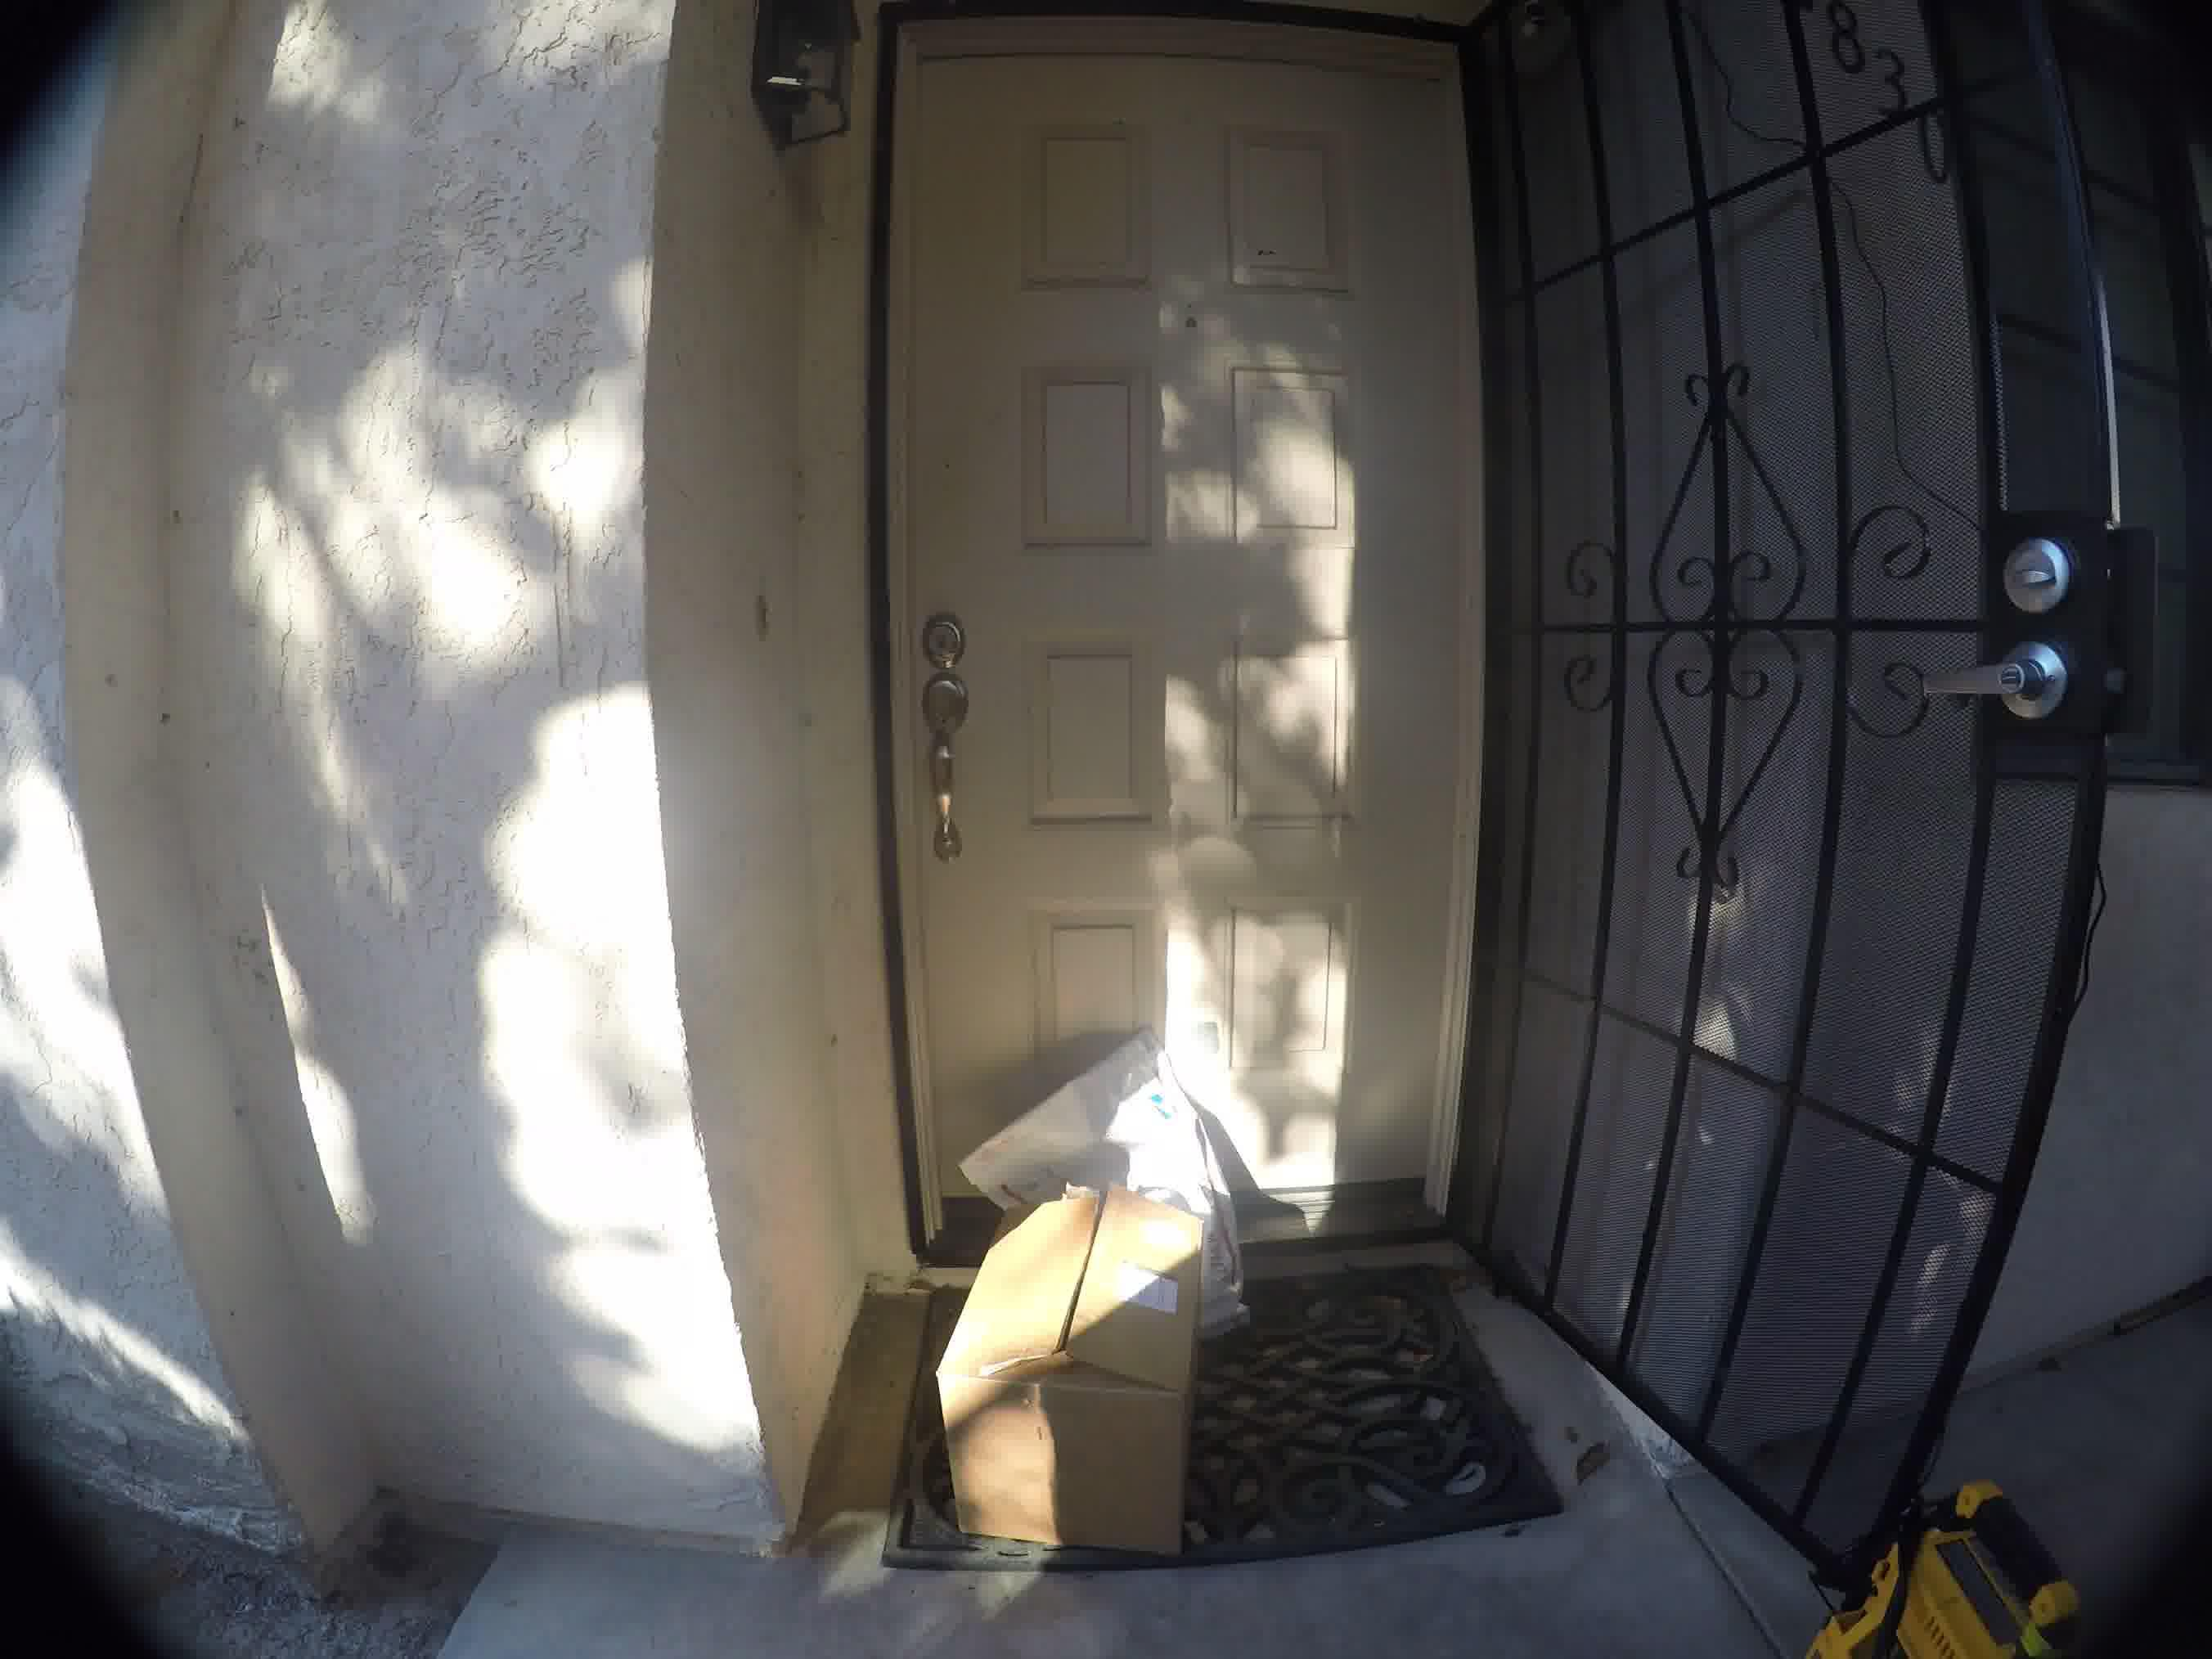box: (934, 1182, 1211, 1561)
